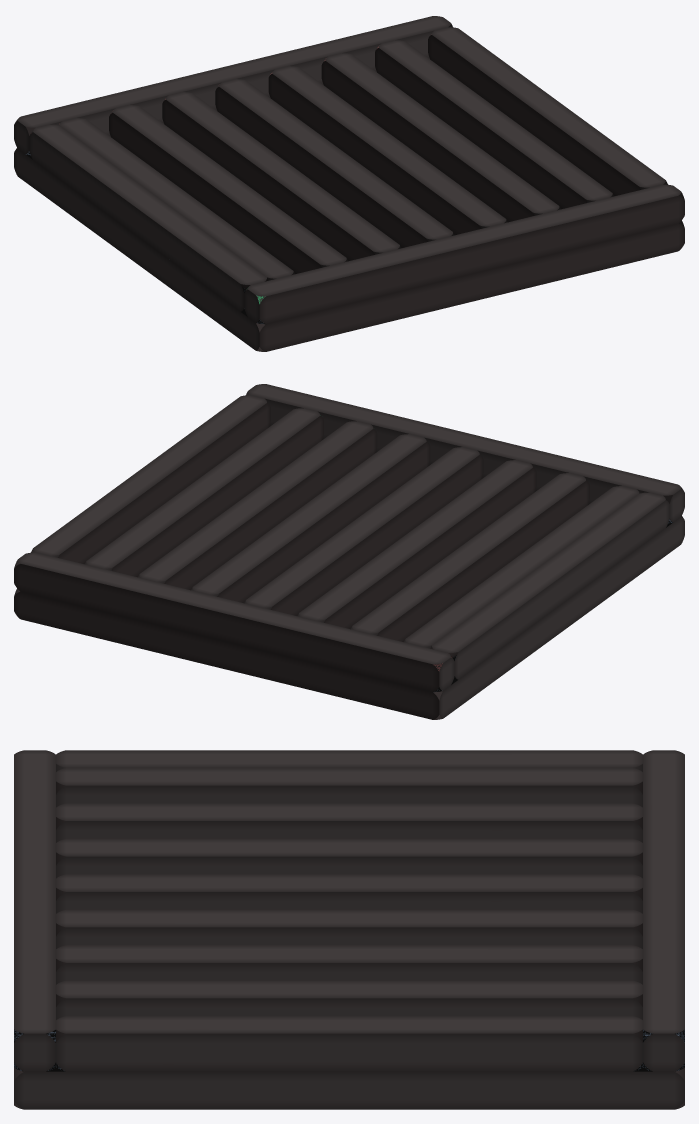
The model's file is LavaVent.obj.
The picture shows the model from 3 angles, top to bottom: view 1: azimuth 30°, elevation 25°; view 2: azimuth 150°, elevation 25°; view 3: azimuth 270°, elevation 25°; orthographic projection. The views are drawn at different scales.
Visible parts, largest first — view 1: cuboid; view 2: cuboid; view 3: cuboid.
Part boxes in pixels (left/top/right/bottom): cuboid: left=14, top=16, right=684, bottom=351; cuboid: left=14, top=384, right=684, bottom=719; cuboid: left=14, top=750, right=684, bottom=1109.
Size of the model in its own units: 1 by 0.125 by 1.
Materials: 1 (1 with a texture image).
